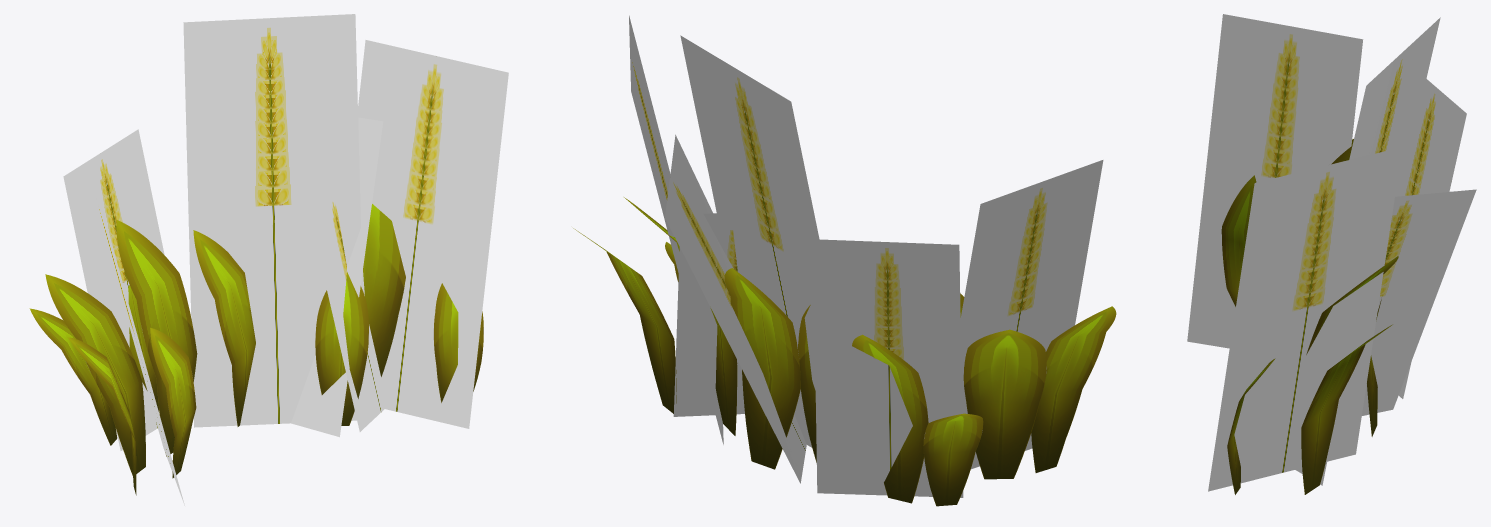
Rendered from Grass3.FBX.
3 views of the same model, side by side, from view 1: azimuth 30°, elevation 25°; view 2: azimuth 150°, elevation 25°; view 3: azimuth 270°, elevation 25° (orthographic). The views are drawn at different scales.
Parts seen in each view (by area): view 1: Grass3a, Grass3b; view 2: Grass3a, Grass3b; view 3: Grass3a, Grass3b.
Part boxes in pixels (x1,y1,x2,y2): Grass3a: (63,14,508,505); Grass3b: (29,204,483,495); Grass3a: (629,15,1103,497); Grass3b: (573,197,1116,506); Grass3a: (1187,14,1476,491); Grass3b: (1221,139,1398,494).
Bounding box in the file's own units: 56.84 × 40.79 × 27.69.
